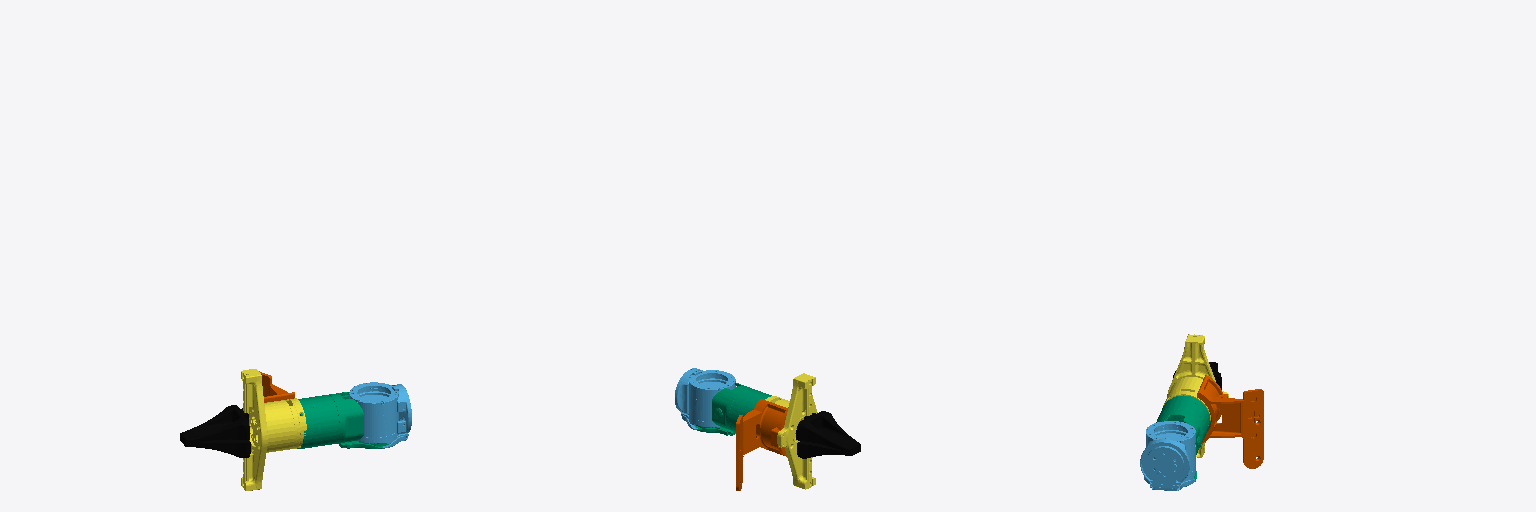
URDF robot description (piper_link3_gripper):
<?xml version="1.0" encoding="utf-8"?>
<robot name="piper_link3_gripper">
  <link name="link3">
    <inertial>
      <origin xyz="-0.0996835215213704 0.0349477226691318 0.000508025815507312" rpy="0 0 0"/>
      <mass value="0.290847697793211"/>
      <inertia ixx="0.000107879011637167" ixy="2.92669521203626E-05" ixz="6.825922326238E-07" iyy="0.000214751671792086" iyz="-7.78469047878196E-07" izz="0.000241923439340319"/>
    </inertial>
    <visual>
      <origin xyz="0 0 0" rpy="0 0 0"/>
      <geometry>
        <mesh filename="../meshes/dark_dae/link3.obj"/>
      </geometry>
    </visual>
    <collision>
      <origin xyz="0 0 0" rpy="0 0 0"/>
      <geometry>
        <box size="0.30 0.08 0.08"/>
      </geometry>
    </collision>
  </link>

  <link name="link4">
    <inertial>
      <origin xyz="0.000276464622387979 -0.00102803669324875 -0.00472830700561663" rpy="0 0 0"/>
      <mass value="0.127087348341362"/>
      <inertia ixx="3.82011730423416E-05" ixy="-4.92358350897513E-08" ixz="4.89589432973119E-08" iyy="4.87048555222578E-05" iyz="6.70802942500512E-08" izz="4.10592077565559E-05"/>
    </inertial>
    <visual>
      <origin xyz="0 0 0" rpy="0 0 0"/>
      <geometry>
        <mesh filename="../meshes/dark_dae/link4.obj"/>
      </geometry>
    </visual>
    <collision>
      <origin xyz="0 0 0" rpy="0 0 0"/>
      <geometry>
        <box size="0.20 0.08 0.08"/>
      </geometry>
    </collision>
  </link>
  <joint name="joint4" type="revolute">
    <origin xyz="-0.24221 0.068514 0" rpy="-1.5708 0 1.3826"/>
    <parent link="link3"/>
    <child link="link4"/>
    <axis xyz="0 0 1"/>
    <limit lower="-3.14159" upper="3.14159" effort="100" velocity="3"/>
  </joint>

  <link name="link5">
    <inertial>
      <origin xyz="8.82262433516967E-05 0.0566829014808256 -0.00196119720482461" rpy="0 0 0"/>
      <mass value="0.144711242639457"/>
      <inertia ixx="4.39644313662493E-05" ixy="-3.59259686444846E-08" ixz="-1.89747741386183E-08" iyy="5.63173920951307E-05" iyz="-2.1540716689785E-07" izz="4.88713664675268E-05"/>
    </inertial>
    <visual>
      <origin xyz="0 0 0" rpy="0 0 -3.14"/>
      <geometry>
        <mesh filename="../meshes/dark_dae/link5.obj"/>
      </geometry>
    </visual>
    <collision>
      <origin xyz="0 0 0" rpy="0 0 -3.14"/>
      <geometry>
        <box size="0.14 0.10 0.06"/>
      </geometry>
    </collision>
  </link>
  <joint name="joint5" type="revolute">
    <origin xyz="0 0 0" rpy="1.5708 0 0"/>
    <parent link="link4"/>
    <child link="link5"/>
    <axis xyz="0 0 1"/>
    <limit lower="-3.14159" upper="3.14159" effort="100" velocity="3"/>
  </joint>

  <link name="link6">
    <inertial>
      <origin xyz="0.00103120214523473 0.0121761387587524 0.0315480874960164" rpy="0 0 0"/>
      <mass value="0.195187143240719"/>
      <inertia ixx="6.43790256535539E-05" ixy="-1.2366166157046E-06" ixz="1.97664606328472E-07" iyy="0.000126146396374301" iyz="2.41157078516408E-06" izz="0.000154087076816444"/>
    </inertial>
    <visual>
      <origin xyz="0 0 0" rpy="0 0 0"/>
      <geometry>
        <mesh filename="../meshes/dark_dae/link6_.obj"/>
      </geometry>
    </visual>
    <collision>
      <origin xyz="0 0 0" rpy="0 0 0"/>
      <geometry>
        <box size="0.08 0.08 0.18"/>
      </geometry>
    </collision>
  </link>
  <joint name="joint6" type="revolute">
    <origin xyz="0 0.091 0.0014165" rpy="-1.5708 -1.5708 0"/>
    <parent link="link5"/>
    <child link="link6"/>
    <axis xyz="0 0 1"/>
    <limit lower="-3.14159" upper="3.14159" effort="100" velocity="3"/>
  </joint>

  <link name="tcp">
    <inertial>
      <origin xyz="0 0 0" rpy="0 0 0"/>
      <mass value="0.001"/>
      <inertia ixx="1e-6" ixy="0" ixz="0" iyy="1e-6" iyz="0" izz="1e-6"/>
    </inertial>
  </link>
  <joint name="tcp_joint" type="fixed">
    <origin xyz="0 0 0.14" rpy="0 0 0"/>
    <parent link="link6"/>
    <child link="tcp"/>
  </joint>

  <link name="camera_stand">
    <inertial>
      <origin xyz="0.00103120214523473 0.0121761387587524 0.0315480874960164" rpy="0 0 0"/>
      <mass value="0.195187143240719"/>
      <inertia ixx="6.43790256535539E-05" ixy="-1.2366166157046E-06" ixz="1.97664606328472E-07" iyy="0.000126146396374301" iyz="2.41157078516408E-06" izz="0.000154087076816444"/>
    </inertial>
    <visual>
      <origin xyz="-0.0025 0 0" rpy="0 0 0"/>
      <geometry>
        <mesh filename="../meshes/dark_dae/d435_camera_stand.obj"/>
      </geometry>
    </visual>
    <collision>
      <origin xyz="0 0 0" rpy="0 0 0"/>
      <geometry>
        <box size="0.04 0.03 0.10"/>
      </geometry>
    </collision>
  </link>
  <joint name="camera_stand_joint" type="fixed">
    <origin xyz="0.0 0.013 0.03" rpy="0 0 0"/>
    <parent link="link6"/>
    <child link="camera_stand"/>
  </joint>

  <link name="d435_camera_link"/>
  <joint name="camera_joint" type="fixed">
    <origin xyz="0 0 0" rpy="0 0 0"/>
    <parent link="d435_camera_link"/>
    <child link="camera_bottom_screw_frame"/>
  </joint>

  <link name="camera_bottom_screw_frame"/>
  <joint name="camera_link_joint" type="fixed">
    <origin xyz="0.010600000000000002 0.0175 0.0125" rpy="0 0 0"/>
    <parent link="camera_bottom_screw_frame"/>
    <child link="camera_link"/>
  </joint>

  <link name="camera_link">
    <visual>
      <origin xyz="0.0043 0.0 0" rpy="0.0 0.0 0.0"/>
      <geometry>
        <mesh filename="../../realsense2_description/meshes/d435.obj"/>
      </geometry>
    </visual>
    <collision>
      <origin xyz="0 -0.0175 0" rpy="0 0 0"/>
      <geometry>
        <box size="0.02505 0.09 0.025"/>
      </geometry>
    </collision>
    <inertial>
      <mass value="0.072"/>
      <origin xyz="0 0 0"/>
      <inertia ixx="0.0003881243" ixy="0.0" ixz="0.0" iyy="0.0000498940" iyz="0.0" izz="0.0003879257"/>
    </inertial>
  </link>
  <joint name="d435_camera_joint" type="fixed">
    <origin xyz="-0.045 0.042 -0.004" rpy="0.52 0.0 0.0"/>
    <parent link="camera_stand"/>
    <child link="d435_camera_link"/>
  </joint>

  <link name="link7">
    <inertial>
      <origin xyz="-0.000277778383727112 -0.0467673043650824 -0.00921029491873201" rpy="0 0 0"/>
      <mass value="0.02648229234527"/>
      <inertia ixx="9.99787479924589E-06" ixy="-1.57548495096104E-07" ixz="-2.71342775003487E-08" iyy="6.1795212293655E-06" iyz="-1.58939803580081E-06" izz="1.42102717246564E-05"/>
    </inertial>
    <visual>
      <origin xyz="0 0 0" rpy="0 0 0"/>
      <geometry>
        <mesh filename="../meshes/dark_dae/link7.obj"/>
      </geometry>
      <material name="link7_color">
        <color rgba="0.06 0.06 0.06 1"/>
      </material>
    </visual>
    <collision>
      <origin xyz="0 0 0" rpy="0 0 0"/>
      <geometry>
        <box size="0.03 0.10 0.03"/>
      </geometry>
    </collision>
  </link>
  <joint name="joint7" type="prismatic">
    <origin xyz="0 0 0.13503" rpy="1.5708 0 1.5708"/>
    <parent link="link6"/>
    <child link="link7"/>
    <axis xyz="0 0 -1"/>
    <limit lower="0" upper="0.04" effort="10" velocity="1"/>
  </joint>

  <link name="link8">
    <inertial>
      <origin xyz="0.000277816920932317 0.0467673824063769 -0.00921030054508036" rpy="0 0 0"/>
      <mass value="0.0264822021416248"/>
      <inertia ixx="9.99779119357223E-06" ixy="-1.57542283433504E-07" ixz="2.71367446701359E-08" iyy="6.17952441557932E-06" iyz="1.58939319453383E-06" izz="1.4210192754512E-05"/>
    </inertial>
    <visual>
      <origin xyz="0 0 0" rpy="0 0 0"/>
      <geometry>
        <mesh filename="../meshes/dark_dae/link8.obj"/>
      </geometry>
      <material name="link8_color">
        <color rgba="0.06 0.06 0.06 1"/>
      </material>
    </visual>
    <collision>
      <origin xyz="0 0 0" rpy="0 0 0"/>
      <geometry>
        <box size="0.03 0.10 0.03"/>
      </geometry>
    </collision>
  </link>
  <joint name="joint8" type="prismatic">
    <origin xyz="0 0 0.13503" rpy="-1.5708 0 1.5708"/>
    <parent link="link6"/>
    <child link="link8"/>
    <axis xyz="0 0 1"/>
    <limit lower="-0.04" upper="0" effort="10" velocity="1"/>
  </joint>
</robot>

--- Render facts (derived) ---
Views: 3 orthographic renders of the robot side by side, from view 1: azimuth 30°, elevation 25°; view 2: azimuth 150°, elevation 25°; view 3: azimuth 270°, elevation 25°.
Model piper_link3_gripper with 11 links and 10 joints (3 revolute, 2 prismatic, 5 fixed), rooted at link3, posed every joint at zero.
Links seen in each view (by area): view 1: link6, link5, link4, link8, link7; view 2: link6, link4, camera_stand, link5, link8, link7; view 3: camera_stand, link4, link6, link5.
Boxes of the visible links, box(x1,y1,x2,y2) form: link6: box(241, 369, 306, 490); link5: box(297, 392, 390, 448); link4: box(349, 382, 411, 448); link8: box(180, 405, 249, 443); link7: box(180, 437, 250, 457); link6: box(765, 373, 817, 489); link4: box(675, 368, 735, 432); camera_stand: box(736, 399, 787, 490); link5: box(694, 383, 771, 435); link8: box(796, 411, 860, 452); link7: box(797, 441, 860, 458); camera_stand: box(1197, 375, 1263, 468); link4: box(1140, 421, 1195, 490); link6: box(1163, 334, 1228, 457); link5: box(1156, 395, 1210, 479).
Bounding box of the posed robot: 0.2714 × 0.3168 × 0.5844 m (x, y, z).
Meshes: 8 distinct files referenced, 6 mesh visuals loaded (6 OBJ); not drawn: 2 (reference not matched to a file when rendering).
